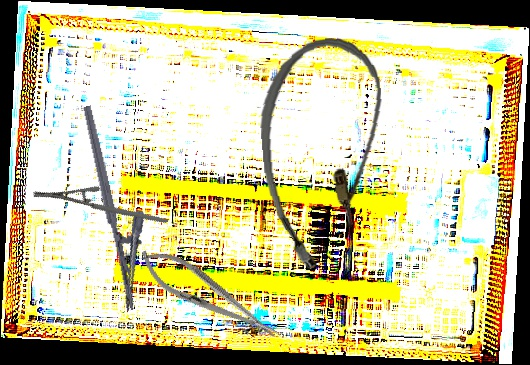Cannula: (253, 34, 396, 273)
Needle Holder: (81, 99, 164, 312), (131, 238, 286, 352), (31, 153, 169, 263)
